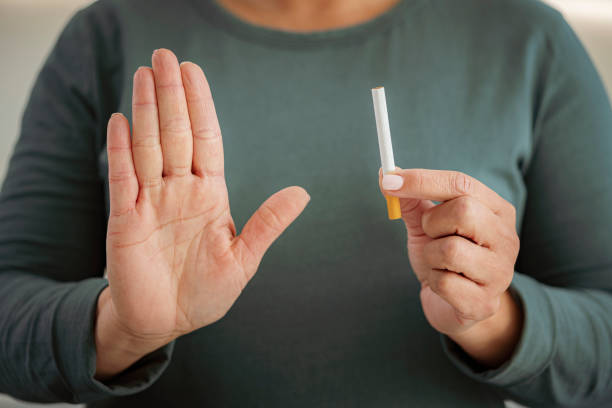cigarette: (368, 86, 403, 222)
